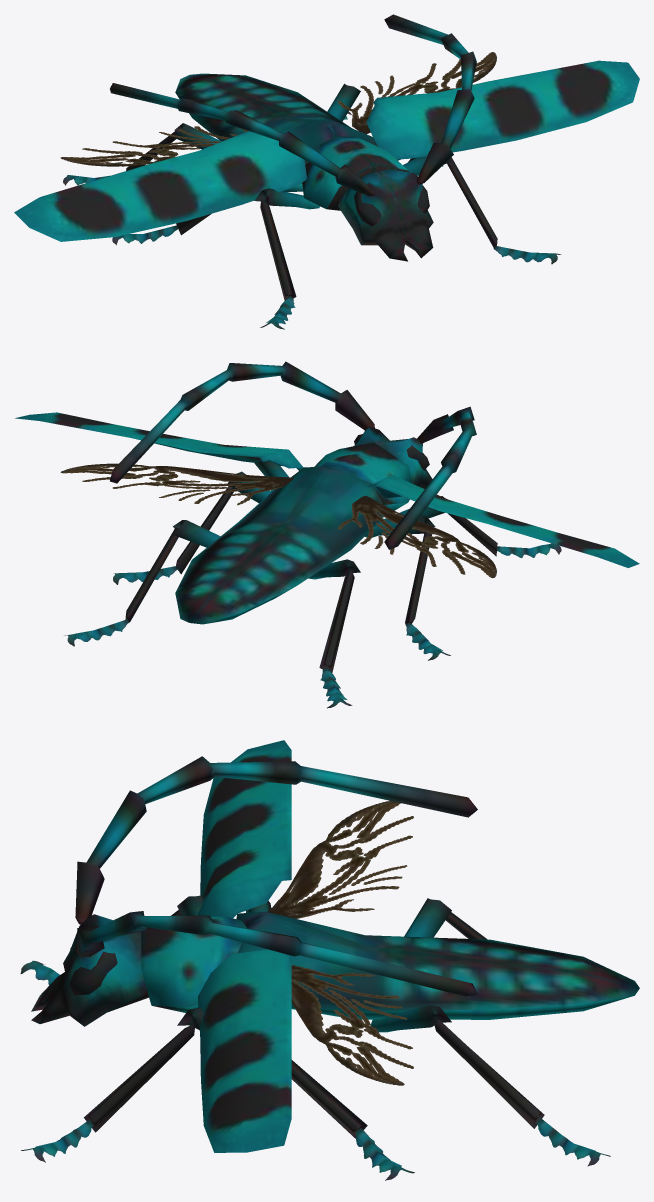
File: rosalia-batesi-beetle.glb
3 renders of one model, top to bottom at view 1: azimuth 30°, elevation 25°; view 2: azimuth 150°, elevation 25°; view 3: azimuth 270°, elevation 25°, orthographic. The views are drawn at different scales.
Size of the model in its own units: 5.39 by 1.48 by 3.52.
Materials: 2 (2 with a texture image).
